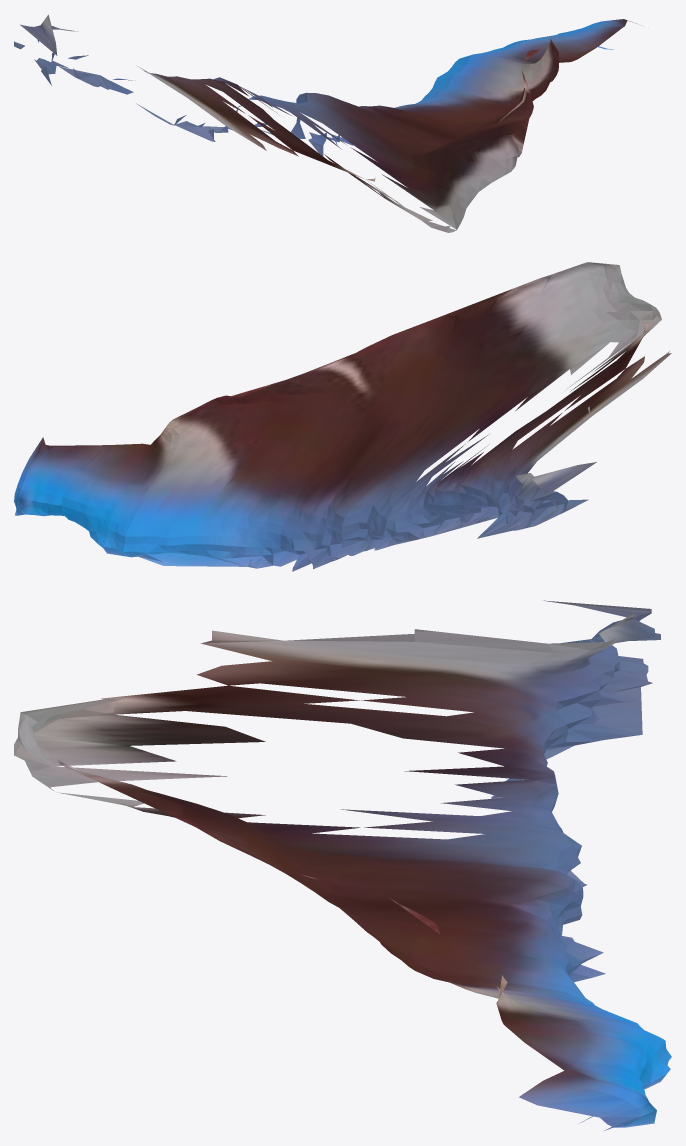
The model's file is observed-surface.glb.
The picture shows the model from 3 angles, top to bottom: view 1: azimuth 30°, elevation 25°; view 2: azimuth 150°, elevation 25°; view 3: azimuth 270°, elevation 25°; orthographic projection. The views are drawn at different scales.
Visible parts, largest first — view 1: geometry_0; view 2: geometry_0; view 3: geometry_0.
Boxes of the visible parts, x1,y1,x2,y2 form: geometry_0: (14, 14, 636, 232); geometry_0: (14, 262, 671, 571); geometry_0: (14, 600, 671, 1130).
Size of the model in its own units: 0.5444 by 0.1666 by 0.4362.
Materials: 1 (1 with a texture image).
